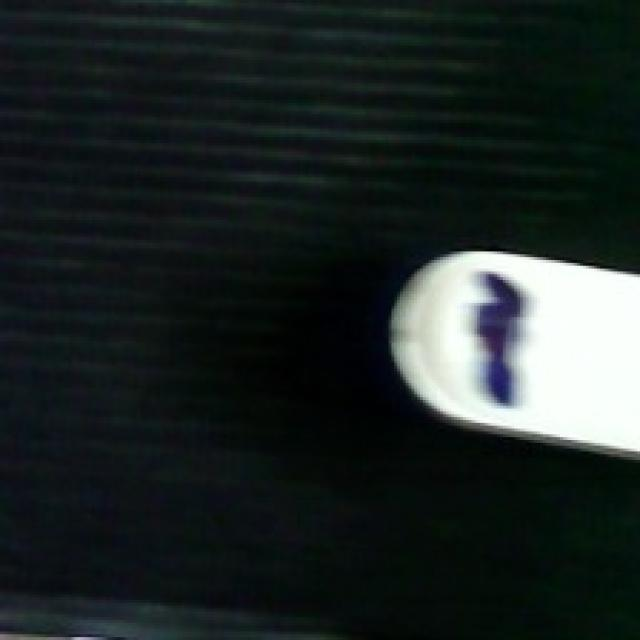defected: (383, 240, 637, 449)
